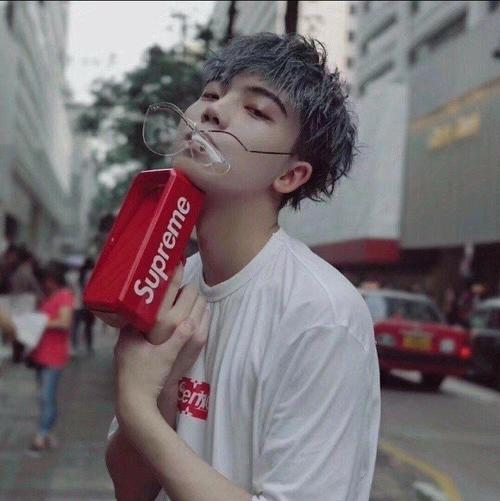no_mask: (164, 19, 361, 222)
